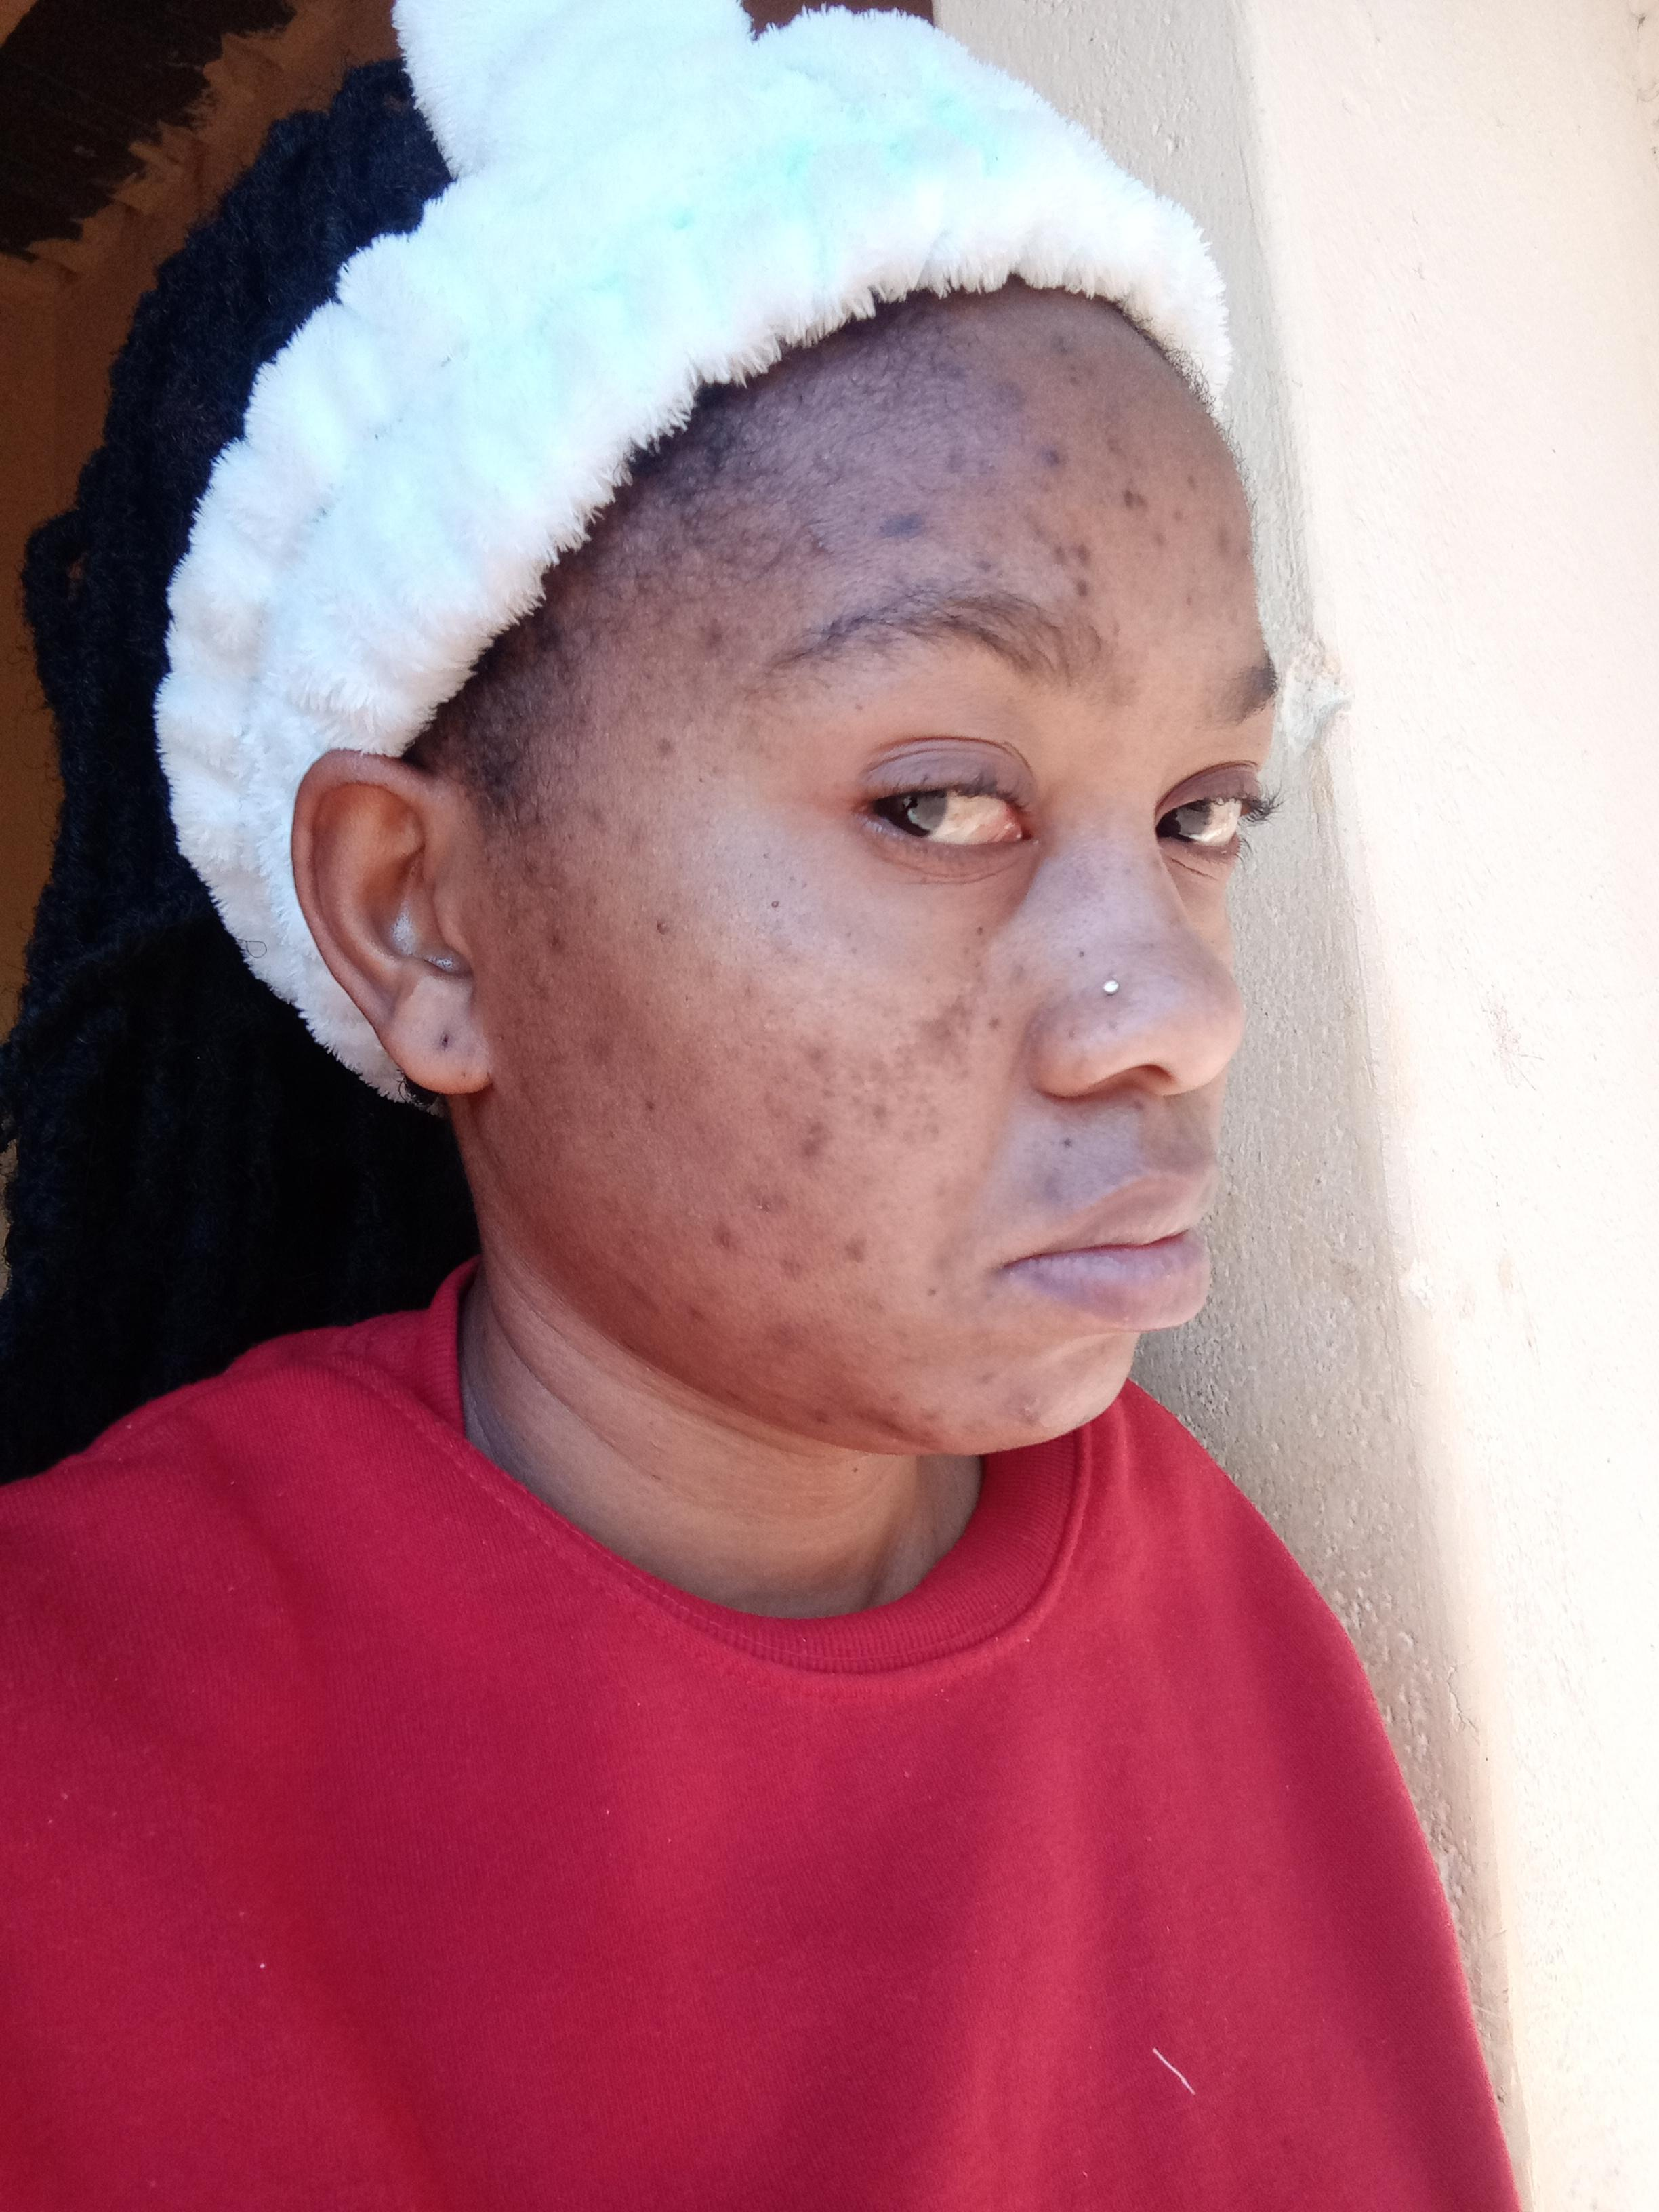Acne: (913, 982, 981, 1059), (890, 1045, 939, 1143), (868, 505, 939, 549), (1049, 538, 1096, 597), (992, 369, 1033, 415), (582, 1028, 624, 1071), (795, 1116, 835, 1160), (795, 1033, 840, 1071), (692, 617, 735, 655), (840, 1228, 878, 1271), (1148, 505, 1187, 545), (791, 528, 840, 559), (863, 1404, 911, 1435), (1006, 1393, 1046, 1430), (746, 1186, 793, 1216), (918, 1402, 948, 1447), (762, 1318, 800, 1353), (1000, 954, 1033, 993), (586, 794, 612, 841), (1040, 331, 1084, 359), (774, 1252, 809, 1287), (708, 1217, 742, 1252), (1115, 491, 1154, 523), (1033, 437, 1066, 472), (943, 446, 974, 479), (864, 1094, 896, 1127), (645, 732, 676, 763), (645, 913, 676, 942), (983, 1010, 1012, 1042), (859, 1055, 894, 1082), (680, 1303, 711, 1331), (861, 1292, 885, 1327), (1103, 425, 1124, 463), (629, 819, 650, 855), (519, 853, 542, 885), (549, 925, 570, 958), (807, 1402, 833, 1426), (1183, 465, 1202, 496), (978, 1364, 1000, 1390), (1218, 517, 1232, 557), (946, 364, 967, 387)
